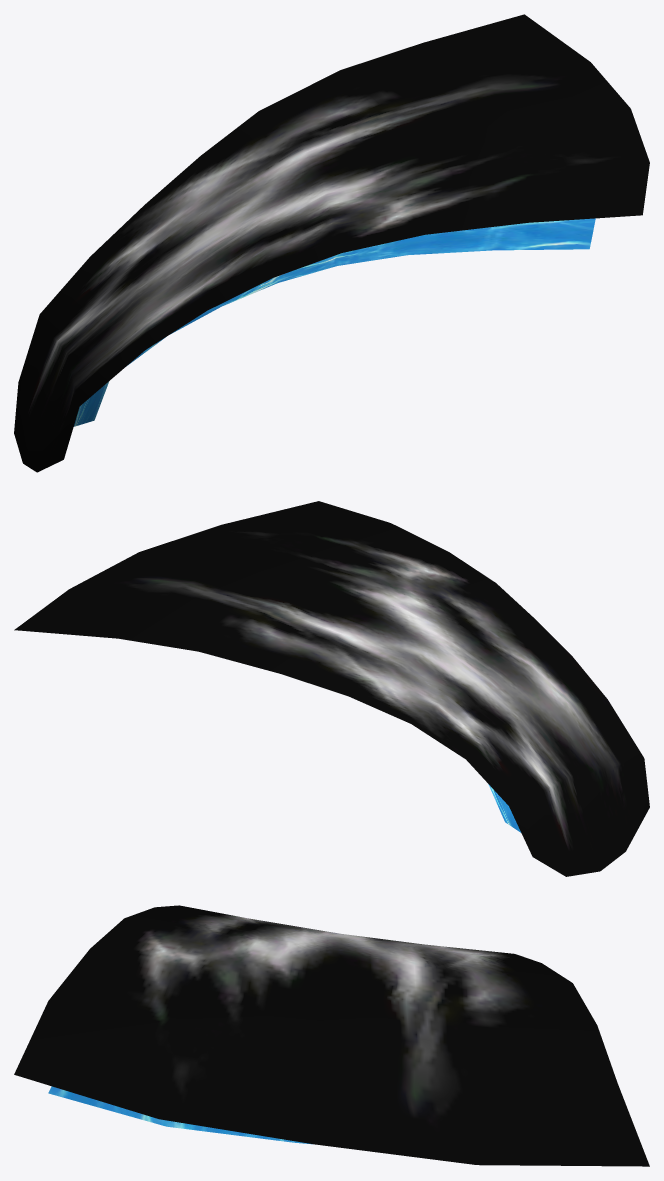
Rendered from effect_meirenyu_atk01_donghua.fbx.
The picture shows the model from 3 angles, top to bottom: view 1: azimuth 30°, elevation 25°; view 2: azimuth 150°, elevation 25°; view 3: azimuth 270°, elevation 25°; orthographic projection. The views are drawn at different scales.
Parts seen in each view (by area): view 1: effect_scene_smoke_plane_001_0, effect_scene_smoke_plane_001 (1)_0; view 2: effect_scene_smoke_plane_001_0; view 3: effect_scene_smoke_plane_001_0, effect_scene_smoke_plane_001 (1)_0.
Boxes of the visible parts, x1,y1,x2,y2 form: effect_scene_smoke_plane_001_0: (14,14,649,472); effect_scene_smoke_plane_001 (1)_0: (73,218,595,426); effect_scene_smoke_plane_001_0: (14,501,649,876); effect_scene_smoke_plane_001_0: (14,905,649,1166); effect_scene_smoke_plane_001 (1)_0: (48,1086,312,1144).
Bounding box in the file's own units: 2.65 × 1.01 × 1.82.
